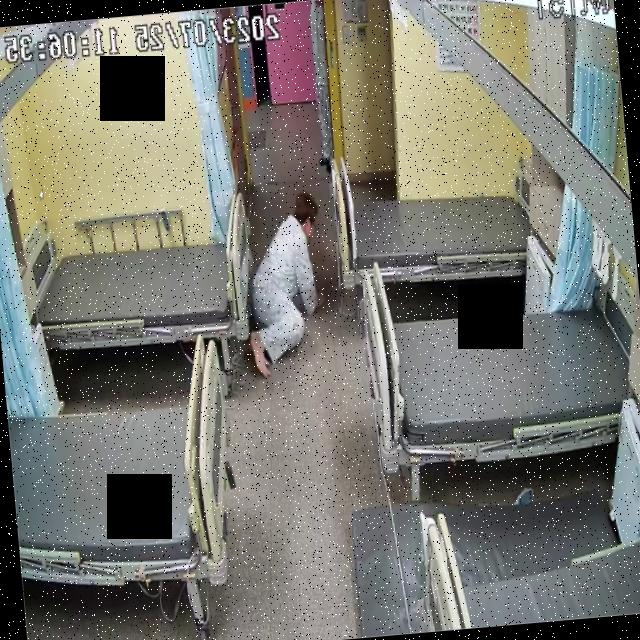bed: (1, 333, 242, 596), (362, 291, 638, 466), (16, 219, 259, 358), (334, 174, 532, 288)
fall: (235, 187, 339, 376)
patient: (235, 190, 339, 373)
